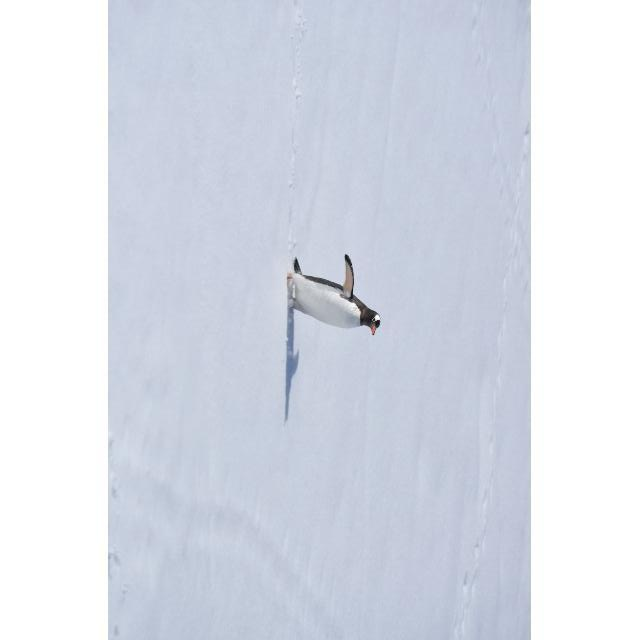penguin: (283, 253, 383, 337)
